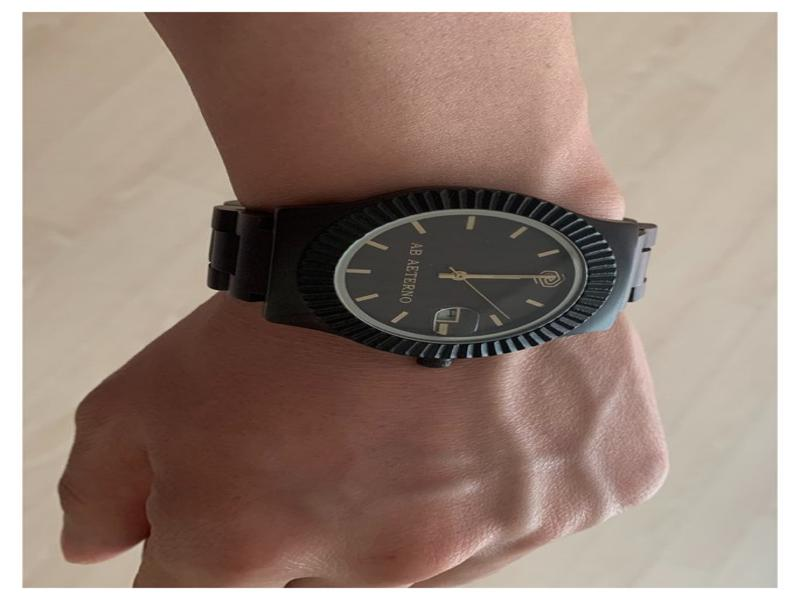watch: (206, 181, 659, 370)
